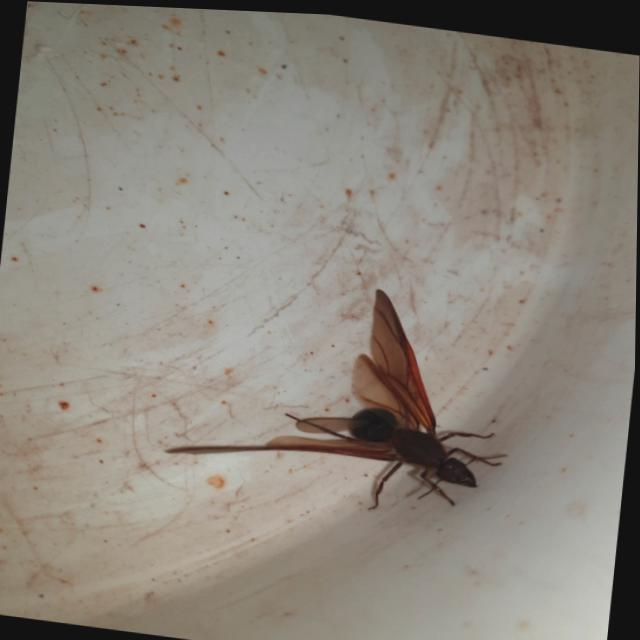Alive-Female-Alate: (163, 260, 524, 524)
